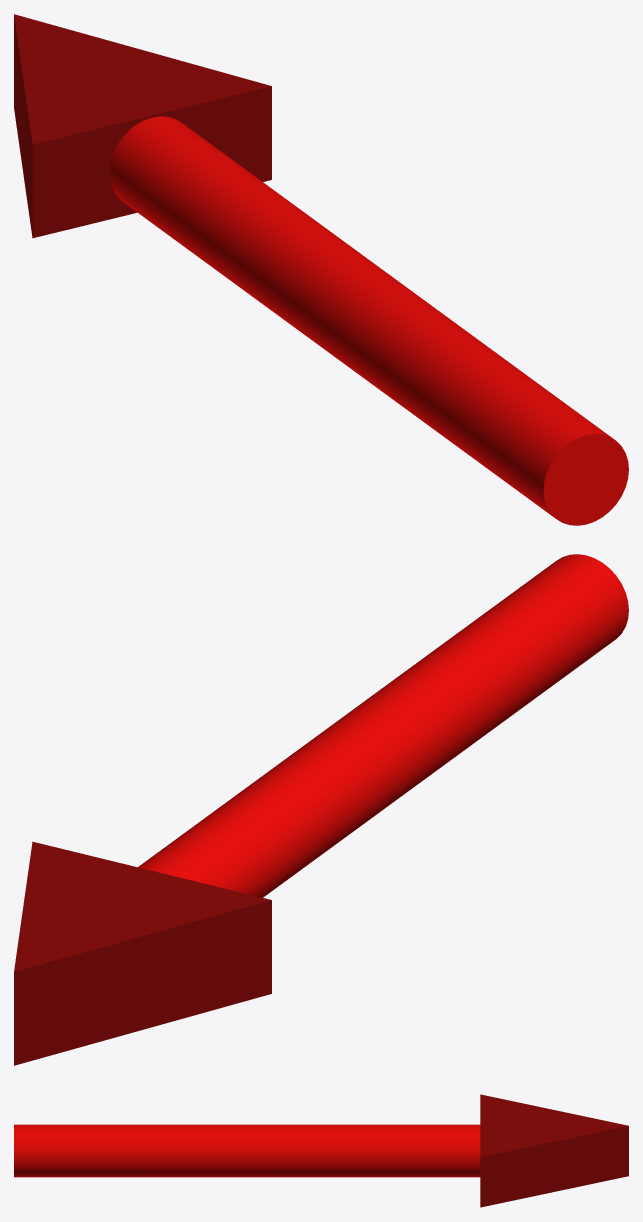
The model's file is arrow.fbx.
3 views of the same model, one above another, from view 1: azimuth 30°, elevation 25°; view 2: azimuth 150°, elevation 25°; view 3: azimuth 270°, elevation 25° (orthographic). The views are drawn at different scales.
Visible parts, largest first — view 1: Cone.001, Cube; view 2: Cone.001, Cube; view 3: Cone.001, Cube.
Boxes of the visible parts, x1,y1,x2,y2 form: Cone.001: (109,116,628,525); Cube: (14,14,271,238); Cone.001: (138,554,628,897); Cube: (14,841,271,1065); Cone.001: (14,1124,480,1177); Cube: (480,1094,628,1207).
Bounding box in the file's own units: 200 × 74.83 × 828.
